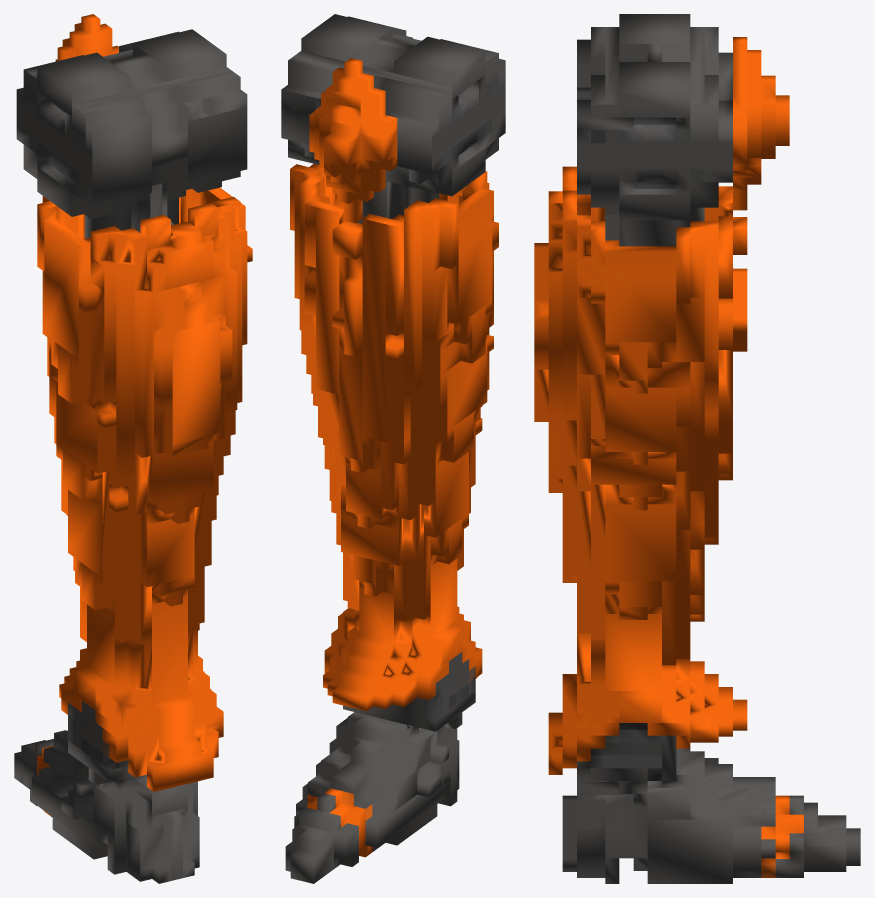
The model's file is KaishiEspinilla.obj.
3 views of the same model, side by side, from view 1: azimuth 30°, elevation 25°; view 2: azimuth 150°, elevation 25°; view 3: azimuth 270°, elevation 25° (orthographic). The views are drawn at different scales.
Parts seen in each view (by area): view 1: kaishiespinilla_14x64x23; view 2: kaishiespinilla_14x64x23; view 3: kaishiespinilla_14x64x23.
Boxes of the visible parts, x1,y1,x2,y2 form: kaishiespinilla_14x64x23: (14, 14, 252, 883); kaishiespinilla_14x64x23: (281, 14, 505, 883); kaishiespinilla_14x64x23: (534, 14, 860, 883).
Size of the model in its own units: 0.1354 by 0.619 by 0.2224.
